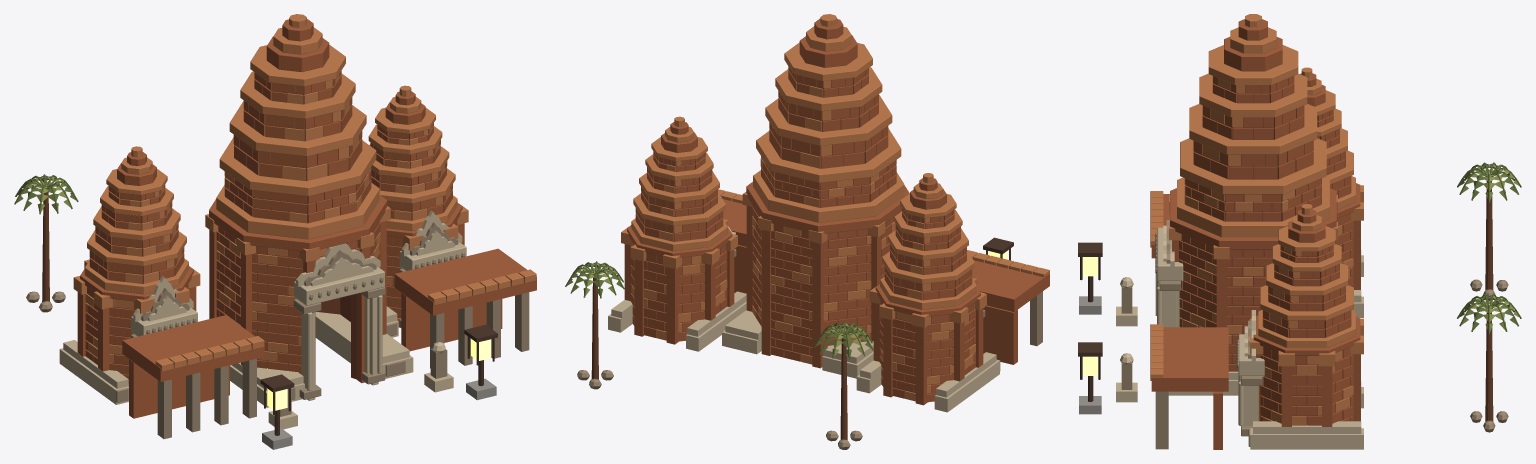
File: chenla.glb
3 renders of one model, left to right at view 1: azimuth 30°, elevation 25°; view 2: azimuth 150°, elevation 25°; view 3: azimuth 270°, elevation 25°, orthographic. The views are drawn at different scales.
Parts seen in each view (by area): view 1: chenla_B03R2_chenla_Brick_001, chenla_B03R2_chenla_BrickLight_001, chenla_B03R2_chenla_Stone_001, chenla_B03R2_chenla_StoneShade_001, chenla_B03R2_chenla_BrickDark_001, chenla_WarmMini_wooddark, chenla_B03R2_chenla_LeafGreen_001, chenla_WarmMini_stone, chenla_B03R2_chenla_Wood_001, chenla_WarmMini_Lamp; view 2: chenla_B03R2_chenla_Brick_001, chenla_B03R2_chenla_BrickLight_001, chenla_B03R2_chenla_Stone_001, chenla_B03R2_chenla_BrickDark_001, chenla_B03R2_chenla_LeafGreen_001, chenla_B03R2_chenla_StoneShade_001, chenla_B03R2_chenla_Wood_001, chenla_B03R2_chenla_LeafLight_001; view 3: chenla_B03R2_chenla_Brick_001, chenla_B03R2_chenla_BrickLight_001, chenla_B03R2_chenla_Stone_001, chenla_B03R2_chenla_StoneShade_001, chenla_B03R2_chenla_BrickDark_001, chenla_B03R2_chenla_LeafGreen_001, chenla_B03R2_chenla_Wood_001, chenla_WarmMini_wooddark, chenla_B03R2_chenla_LeafLight_001, chenla_WarmMini_stone, chenla_WarmMini_Lamp.
Part boxes in pixels (left/top/right/bottom): chenla_B03R2_chenla_Brick_001: left=77, top=19, right=536, bottom=418; chenla_B03R2_chenla_BrickLight_001: left=73, top=14, right=536, bottom=385; chenla_B03R2_chenla_Stone_001: left=59, top=210, right=466, bottom=429; chenla_B03R2_chenla_StoneShade_001: left=26, top=222, right=529, bottom=439; chenla_B03R2_chenla_BrickDark_001: left=108, top=84, right=442, bottom=379; chenla_WarmMini_wooddark: left=260, top=324, right=497, bottom=435; chenla_B03R2_chenla_LeafGreen_001: left=14, top=174, right=78, bottom=214; chenla_WarmMini_stone: left=262, top=378, right=496, bottom=449; chenla_B03R2_chenla_Wood_001: left=42, top=192, right=49, bottom=301; chenla_WarmMini_Lamp: left=267, top=339, right=491, bottom=410; chenla_B03R2_chenla_Brick_001: left=624, top=19, right=1049, bottom=405; chenla_B03R2_chenla_BrickLight_001: left=621, top=14, right=1049, bottom=401; chenla_B03R2_chenla_Stone_001: left=608, top=226, right=999, bottom=412; chenla_B03R2_chenla_BrickDark_001: left=645, top=82, right=954, bottom=393; chenla_B03R2_chenla_LeafGreen_001: left=565, top=261, right=873, bottom=359; chenla_B03R2_chenla_StoneShade_001: left=577, top=249, right=1042, bottom=449; chenla_B03R2_chenla_Wood_001: left=591, top=277, right=847, bottom=439; chenla_B03R2_chenla_LeafLight_001: left=567, top=262, right=870, bottom=356; chenla_B03R2_chenla_Brick_001: left=1151, top=19, right=1360, bottom=449; chenla_B03R2_chenla_BrickLight_001: left=1150, top=14, right=1363, bottom=425; chenla_B03R2_chenla_Stone_001: left=1116, top=225, right=1363, bottom=449; chenla_B03R2_chenla_StoneShade_001: left=1121, top=220, right=1508, bottom=449; chenla_B03R2_chenla_BrickDark_001: left=1181, top=84, right=1350, bottom=424; chenla_B03R2_chenla_LeafGreen_001: left=1457, top=162, right=1521, bottom=334; chenla_B03R2_chenla_Wood_001: left=1485, top=181, right=1493, bottom=421; chenla_WarmMini_wooddark: left=1078, top=242, right=1102, bottom=401; chenla_B03R2_chenla_LeafLight_001: left=1461, top=164, right=1519, bottom=331; chenla_WarmMini_stone: left=1079, top=296, right=1101, bottom=414; chenla_WarmMini_Lamp: left=1083, top=257, right=1097, bottom=375.
Size of the model in its own units: 4.06 by 3.52 by 4.14.
